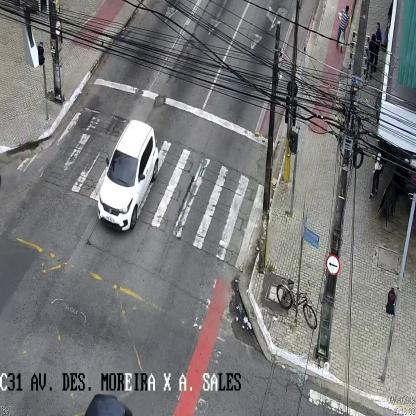bicycle: (276, 278, 317, 332)
car: (98, 118, 159, 233)
person: (368, 142, 382, 200), (336, 5, 349, 54), (364, 34, 373, 80), (375, 21, 381, 69)
